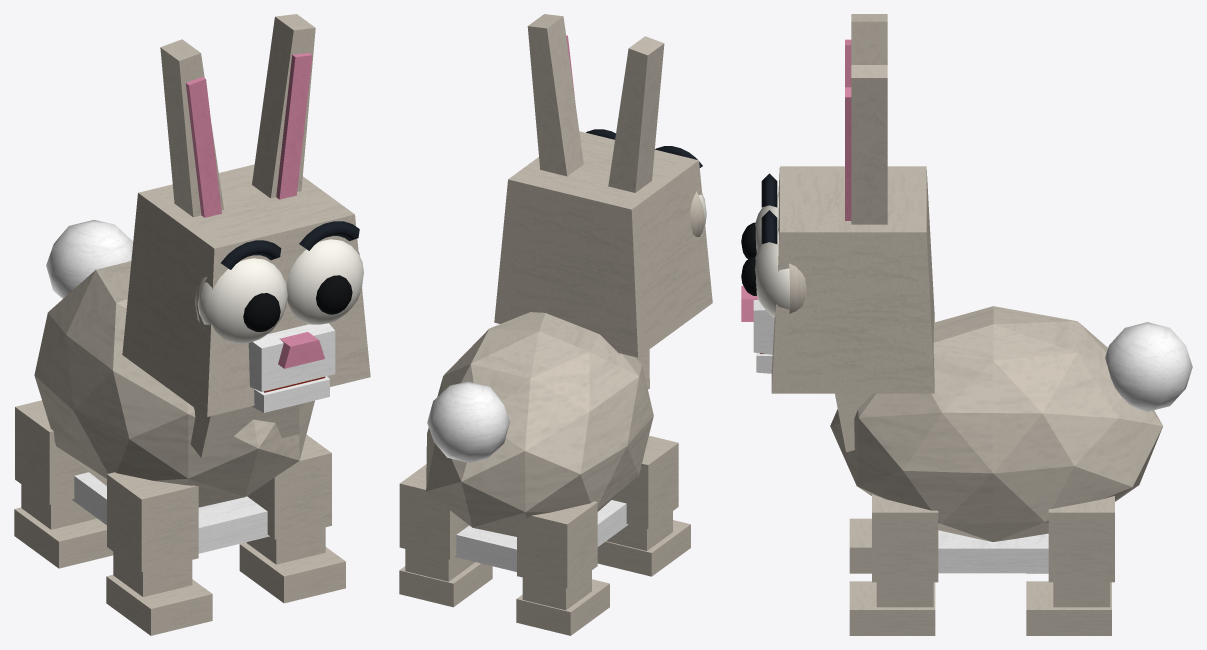
Rendered from rabbit.glb.
The picture shows the model from 3 angles, left to right: view 1: azimuth 30°, elevation 25°; view 2: azimuth 150°, elevation 25°; view 3: azimuth 270°, elevation 25°; orthographic projection. The views are drawn at different scales.
Parts seen in each view (by area): view 1: head, body, earL, legFR, earR, kneeFR, kneeFL, legFL, kneeBR, legBR, tailBase, neck (+1 smaller); view 2: body, head, earL, earR, legBR, tailBase, kneeBR, legBL, legFR, kneeFR, kneeBL; view 3: body, head, earL, tailBase, legBL, legFL, kneeFL, kneeBL, earR, kneeFR, neck.
Boxes of the visible parts, x1,y1,x2,y2 form: head: (122,164,370,416); body: (34,261,314,553); earL: (252,14,315,199); legFR: (107,472,198,571); earR: (160,39,223,217); kneeFR: (106,552,212,635); kneeFL: (239,527,345,603); legFL: (247,434,331,539); kneeBR: (14,484,113,568); legBR: (15,400,88,504); tailBase: (46,220,133,298); neck: (190,404,299,457); body: (426,312,653,571); head: (494,129,712,357); earL: (527,14,583,176); earR: (608,36,664,192); legBR: (517,501,597,588); tailBase: (427,381,509,462); kneeBR: (516,570,609,635); legBL: (399,464,468,559); legFR: (612,435,678,528); kneeFR: (597,511,690,576); kneeBL: (399,549,492,607); body: (830,306,1162,573); head: (741,166,934,393); earL: (845,65,887,224); tailBase: (1105,322,1192,411); legBL: (1048,496,1114,582); legFL: (872,494,938,582); kneeFL: (849,581,935,635); kneeBL: (1026,581,1111,635); earR: (845,14,887,87); kneeFR: (849,518,871,573); neck: (835,393,872,452).
Bounding box in the file's own units: 0.246 × 0.6663 × 0.4985.
Materials: 16 (13 with a texture image).
